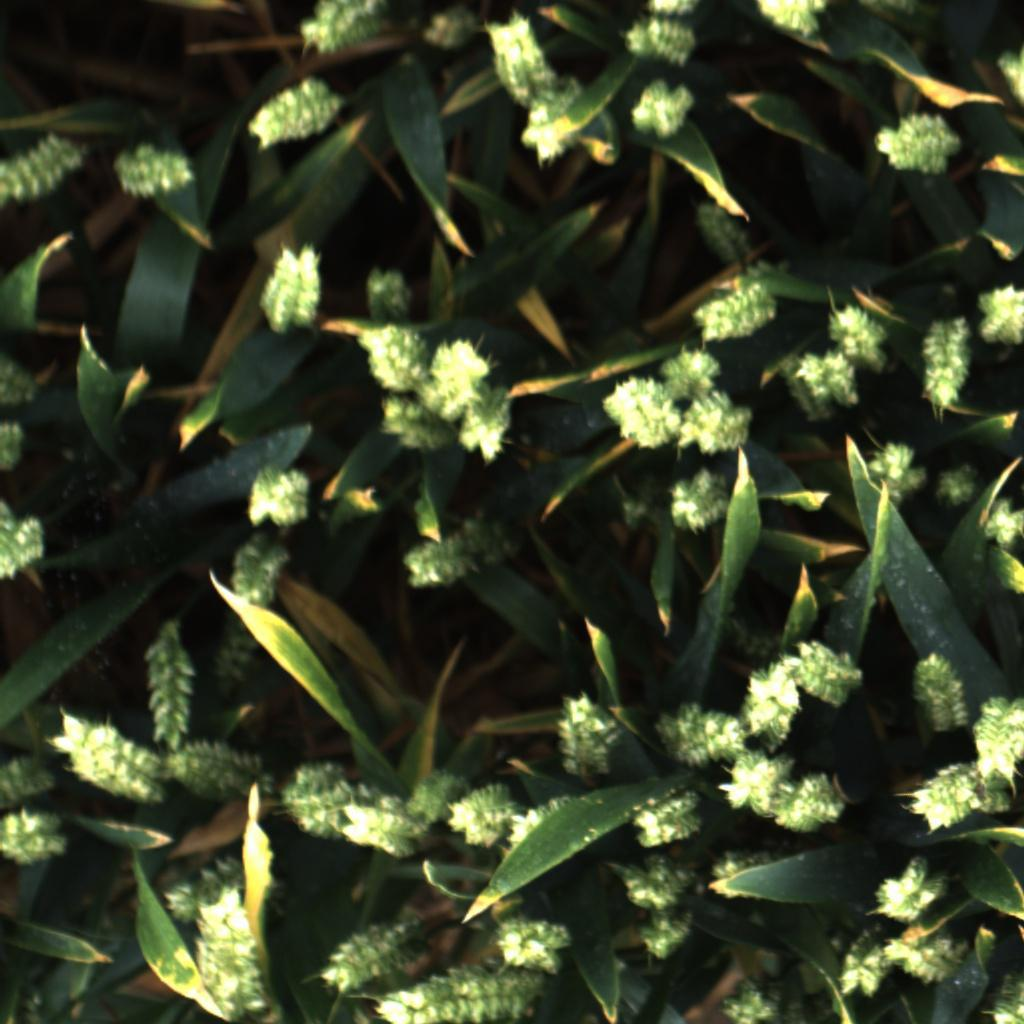0-0: (403, 507, 548, 590), (41, 708, 158, 802), (189, 898, 268, 1019), (902, 757, 1019, 837), (208, 570, 281, 696), (308, 912, 423, 990), (377, 967, 527, 1024), (155, 844, 254, 929), (867, 101, 967, 184), (512, 78, 597, 171), (483, 7, 559, 110), (688, 187, 776, 274), (241, 74, 342, 147), (371, 389, 463, 469), (251, 242, 330, 334), (794, 637, 875, 726), (555, 679, 623, 785), (710, 851, 832, 910), (161, 737, 272, 801), (0, 485, 68, 588), (4, 129, 89, 209), (273, 755, 352, 841), (139, 631, 197, 747), (654, 694, 745, 765), (603, 372, 684, 451), (448, 775, 525, 856), (905, 646, 975, 732), (490, 911, 587, 973), (722, 751, 794, 834), (232, 458, 312, 531), (113, 135, 196, 205), (424, 333, 492, 418), (389, 760, 464, 837), (873, 850, 950, 924), (789, 343, 863, 419), (631, 783, 707, 856), (610, 851, 696, 914), (692, 281, 771, 348), (882, 927, 959, 995), (918, 317, 973, 412), (680, 392, 760, 457), (741, 656, 798, 747), (292, 0, 391, 52), (627, 78, 703, 145), (0, 803, 76, 870), (340, 798, 422, 860), (773, 768, 847, 836), (665, 467, 733, 541), (361, 320, 428, 395), (457, 388, 521, 463), (357, 259, 422, 327), (654, 344, 733, 399), (624, 13, 706, 65), (826, 296, 886, 367), (974, 694, 1024, 777), (834, 926, 889, 999), (231, 547, 294, 610), (868, 440, 929, 505), (634, 905, 697, 963), (975, 277, 1024, 347), (932, 458, 989, 518), (721, 973, 788, 1024), (420, 8, 482, 63), (750, 0, 829, 42), (0, 751, 58, 804), (979, 497, 1024, 555), (982, 961, 1023, 1021)
